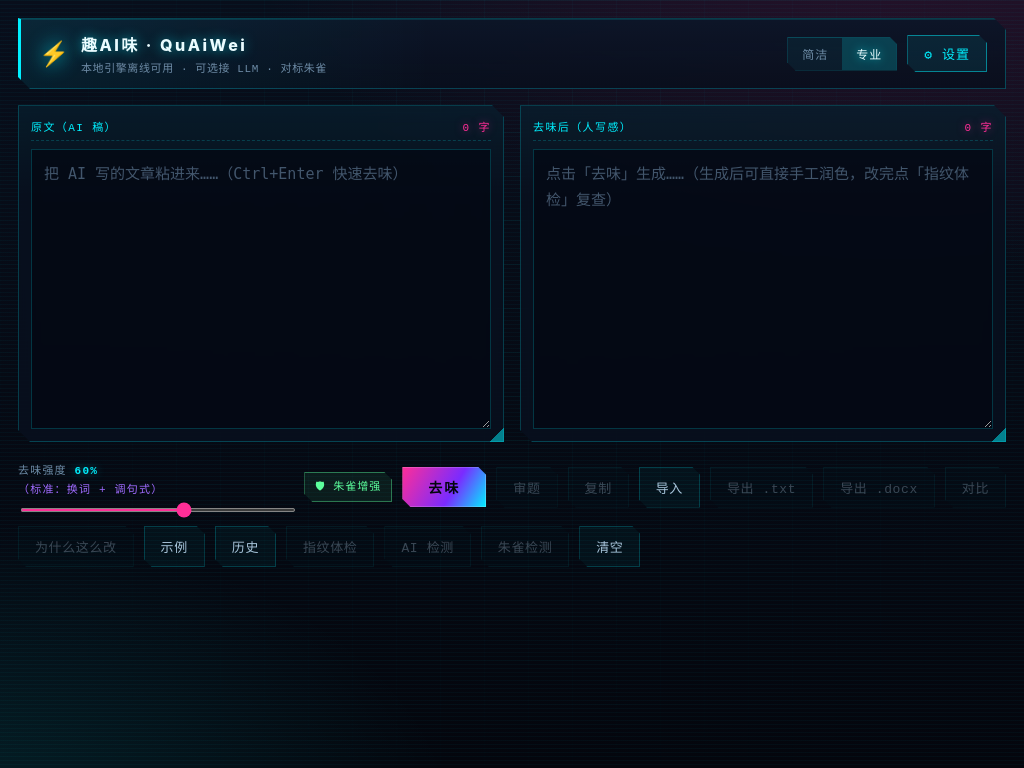
App 去味闭环 › 本地引擎产出：输出面板显示去味稿，界面文案如实写「使用本地引擎去味」
The width and height of the screenshot is (1024, 768).
Step 1. Type "值得注意的是，随着人工智能技术的快速发展，AI 写作工具应运而生。综上所述，数字化办公不仅极大地提升了工作效率，而且有效地降低了运营成本。然而，技术的变革也带来了一系列值得关注的挑战。" into the text box with placeholder "把 AI 写的文章粘进来……（Ctrl+Enter 快速去味）" → (261, 289), box [31,149,491,429]
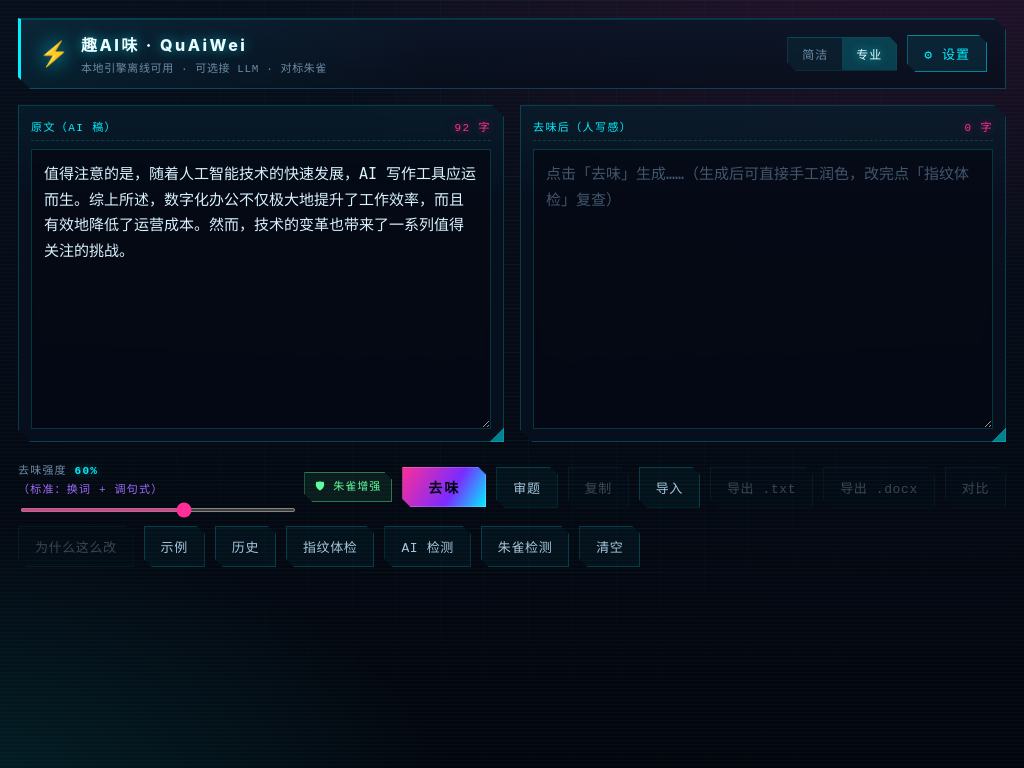
Step 2. Click the button "去味" → (444, 487), box [402,467,486,507]
(page scrolled)
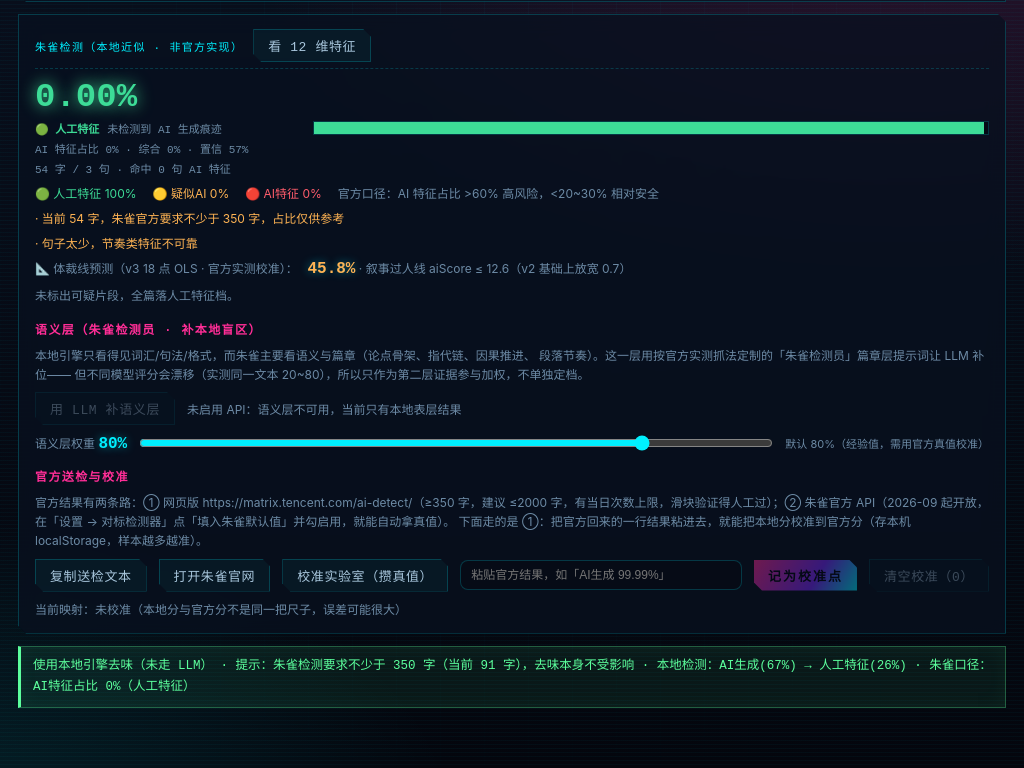
Expected: the text "使用本地引擎去味" is shown, [33,659,992,694]
